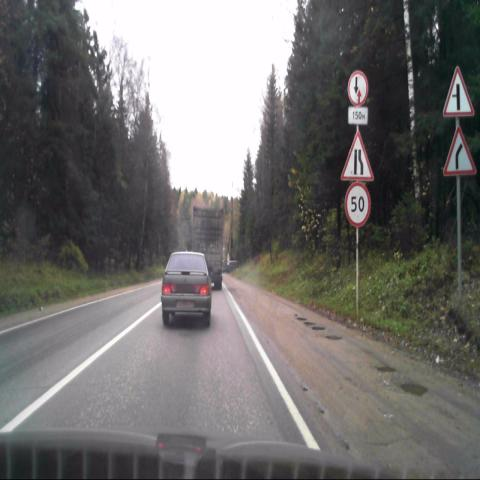1_20_2: (340, 130, 374, 180)
2_6: (347, 70, 368, 107)
8_1_1: (348, 107, 368, 125)
